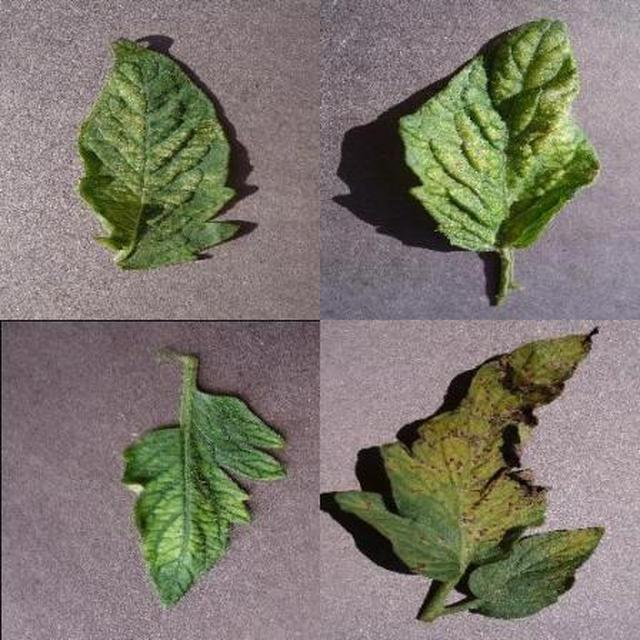Spider Mites Leaf: (228, 194, 640, 640)
